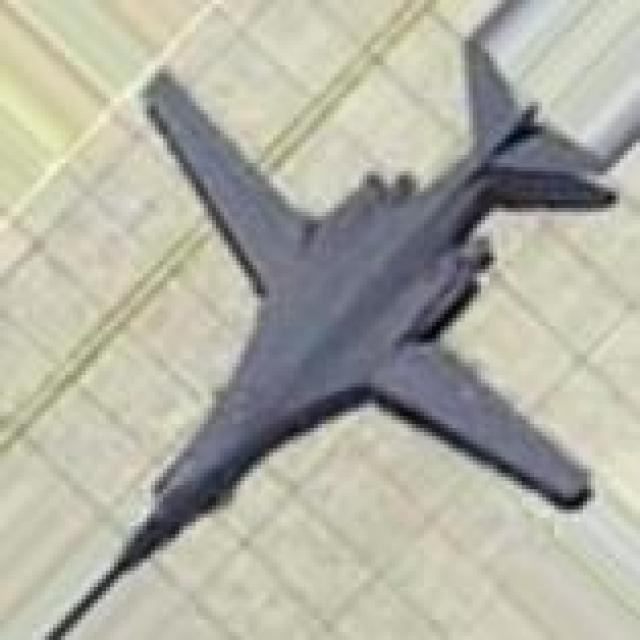B-1_TopDown: (28, 0, 636, 636)
